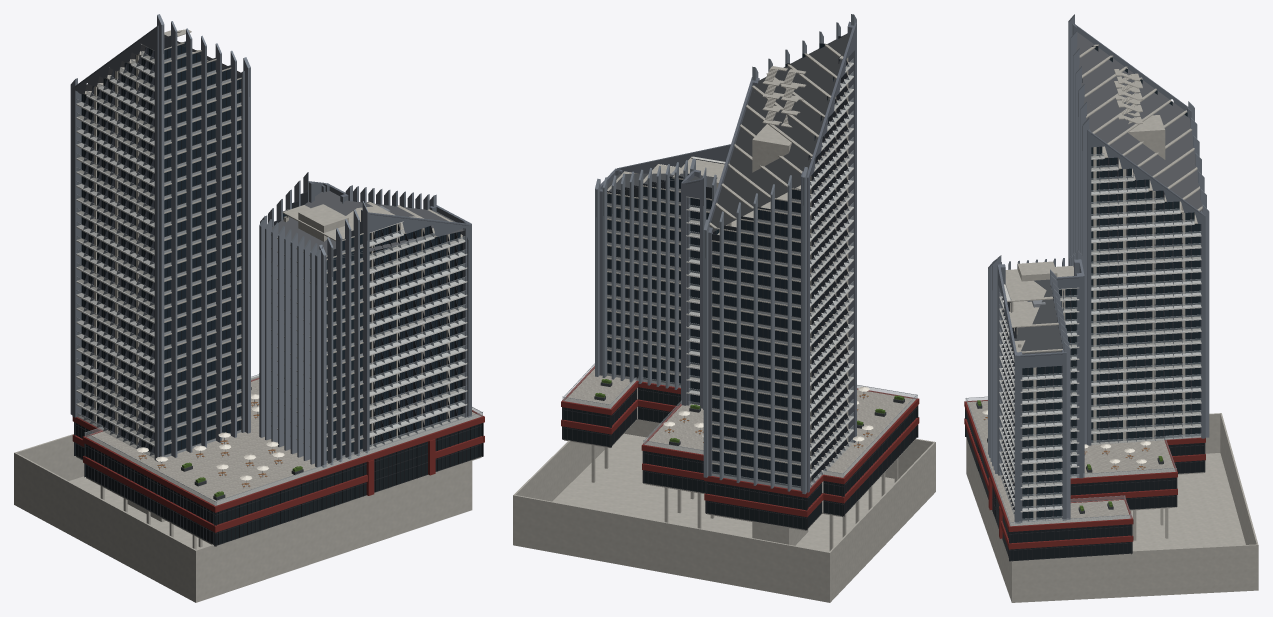
File: building.glb
3 views of the same model, side by side, from view 1: azimuth 30°, elevation 25°; view 2: azimuth 150°, elevation 25°; view 3: azimuth 270°, elevation 25° (orthographic). The views are drawn at different scales.
Parts seen in each view (by area): view 1: B_facade_S, A_facade_W, Foundation, A_facade_S, A_glazing_W, B_glazing_S, B_facade_W, A_glazing_S, P_glazing, P_facade, P_roof, A_slabs (+10 smaller); view 2: Foundation, A_facade_W, A_facade_N, B_facade_N, A_glazing_N, P_facade, P_glazing, A_crown, B_glazing_N, A_slabs, P_roof, A_glazing_W (+11 smaller); view 3: A_glazing_E, Foundation, A_facade_E, B_facade_E, P_facade, A_crown, P_glazing, B_glazing_E, B_facade_S, P_roof, A_facade_S, A_slabs (+12 smaller).
Part boxes in pixels (x1=…): B_facade_S: x1=319, y1=201, x2=471, y2=467; A_facade_W: x1=72, y1=25, x2=158, y2=461; Foundation: x1=14, y1=375, x2=472, y2=602; A_facade_S: x1=157, y1=14, x2=250, y2=462; A_glazing_W: x1=77, y1=48, x2=154, y2=458; B_glazing_S: x1=326, y1=223, x2=464, y2=459; B_facade_W: x1=259, y1=216, x2=322, y2=467; A_glazing_S: x1=164, y1=43, x2=240, y2=454; P_glazing: x1=74, y1=375, x2=482, y2=545; P_facade: x1=72, y1=373, x2=484, y2=546; P_roof: x1=87, y1=379, x2=480, y2=505; A_slabs: x1=78, y1=42, x2=241, y2=445; Foundation: x1=513, y1=420, x2=935, y2=602; A_facade_W: x1=801, y1=21, x2=856, y2=492; A_facade_N: x1=703, y1=167, x2=807, y2=494; B_facade_N: x1=595, y1=158, x2=716, y2=409; A_glazing_N: x1=712, y1=189, x2=800, y2=487; P_facade: x1=561, y1=363, x2=919, y2=530; P_glazing: x1=562, y1=364, x2=917, y2=529; A_crown: x1=709, y1=33, x2=850, y2=232; B_glazing_N: x1=607, y1=178, x2=711, y2=405; A_slabs: x1=709, y1=43, x2=851, y2=478; P_roof: x1=564, y1=368, x2=915, y2=480; A_glazing_W: x1=809, y1=59, x2=853, y2=488; A_glazing_E: x1=1091, y1=146, x2=1200, y2=444; Foundation: x1=966, y1=413, x2=1258, y2=602; A_facade_E: x1=1087, y1=129, x2=1205, y2=445; B_facade_E: x1=1016, y1=276, x2=1083, y2=523; P_facade: x1=964, y1=396, x2=1205, y2=561; A_crown: x1=1076, y1=32, x2=1202, y2=211; P_glazing: x1=965, y1=397, x2=1204, y2=560; B_glazing_E: x1=1022, y1=288, x2=1076, y2=522; B_facade_S: x1=988, y1=255, x2=1022, y2=523; P_roof: x1=967, y1=400, x2=1175, y2=526; A_facade_S: x1=1068, y1=14, x2=1089, y2=444; A_slabs: x1=1079, y1=44, x2=1202, y2=432.
Size of the model in its own units: 88.4 by 130 by 73.72.
23 materials, 2 textured.
